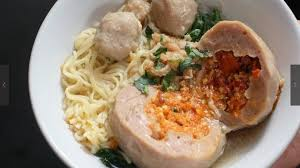bakso: (105, 17, 272, 159)
